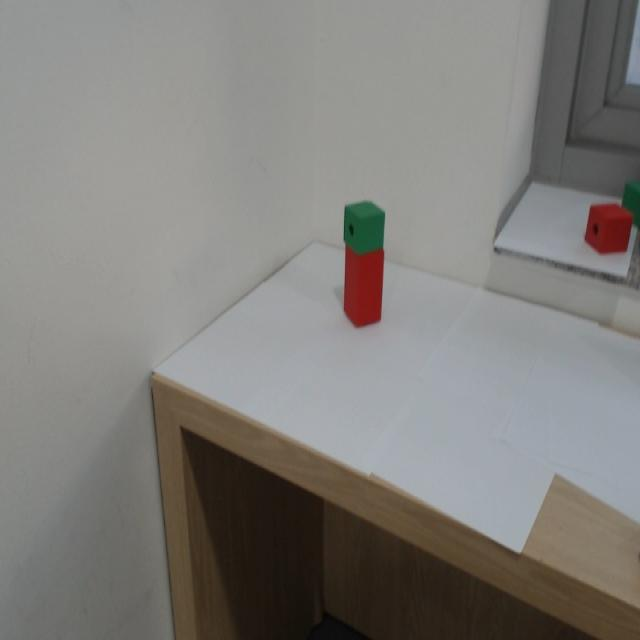cube: (331, 190, 392, 254)
